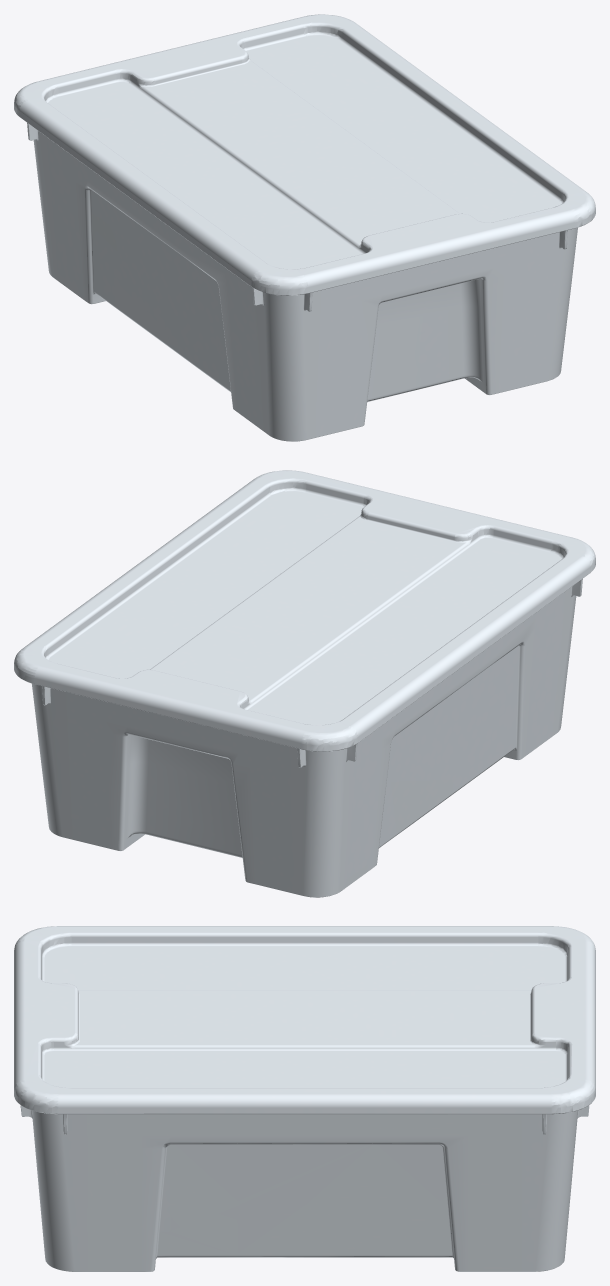
Rendered from samla_pojemnik_z_pokrywka_69440836.glb.
The picture shows the model from 3 angles, top to bottom: view 1: azimuth 30°, elevation 25°; view 2: azimuth 150°, elevation 25°; view 3: azimuth 270°, elevation 25°; orthographic projection. The views are drawn at different scales.
Parts seen in each view (by area): view 1: samla_pojemnik_z_pokrywka_69440836; view 2: samla_pojemnik_z_pokrywka_69440836; view 3: samla_pojemnik_z_pokrywka_69440836.
Boxes of the visible parts, left/top/right/bottom form: samla_pojemnik_z_pokrywka_69440836: left=14, top=14, right=595, bottom=441; samla_pojemnik_z_pokrywka_69440836: left=14, top=470, right=595, bottom=897; samla_pojemnik_z_pokrywka_69440836: left=14, top=926, right=595, bottom=1271.
Bounding box in the file's own units: 0.2816 × 0.1395 × 0.3936.
2 materials, 2 textured.
